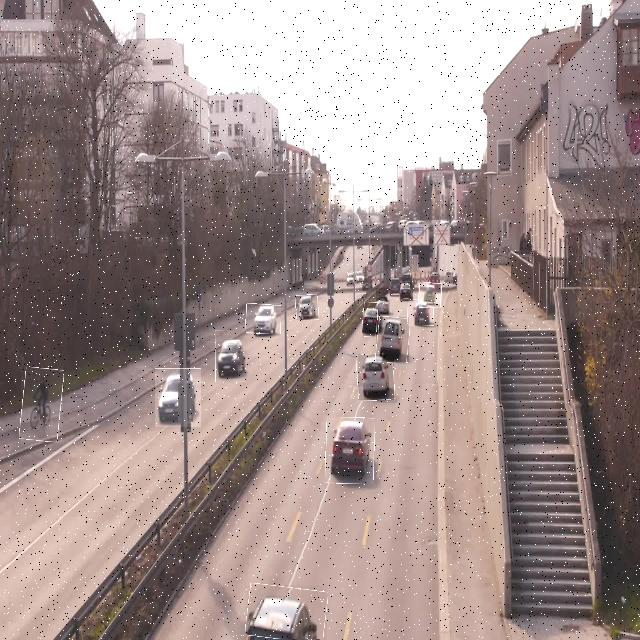Car: (246, 585, 327, 640), (326, 418, 374, 484), (155, 368, 201, 427), (358, 354, 394, 400), (215, 330, 246, 382), (376, 317, 409, 362), (246, 303, 281, 334), (408, 299, 434, 326), (418, 283, 442, 308), (296, 295, 318, 320), (363, 302, 377, 337), (399, 276, 413, 302), (376, 288, 388, 314)
Motorcycle: (21, 368, 63, 442)
